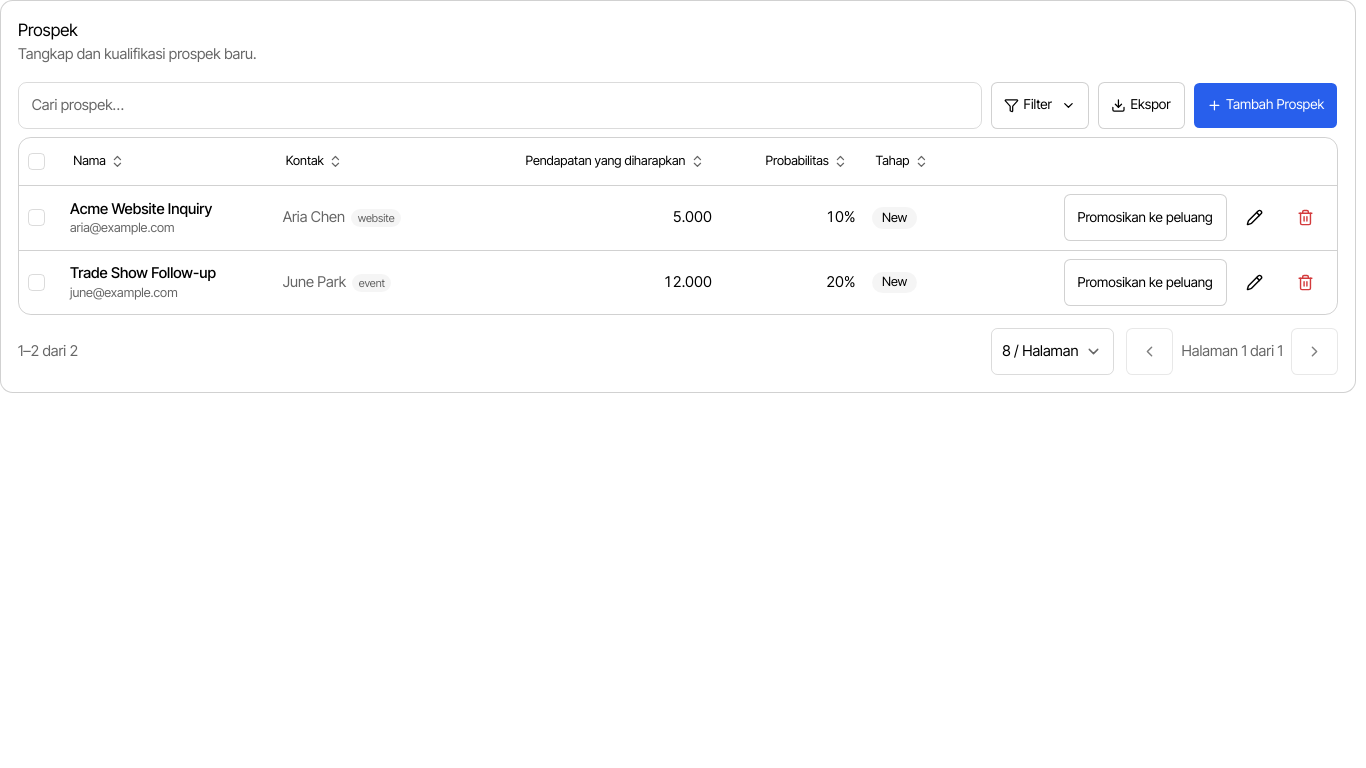
Test: LeadsSection › opens the lead dialog from the add button
Expected: the text "Acme Website Inquiry" is shown, [70, 200, 212, 218]
Click the button "Tambah Prospek".
click(1266, 105)  # box [1193, 82, 1338, 129]
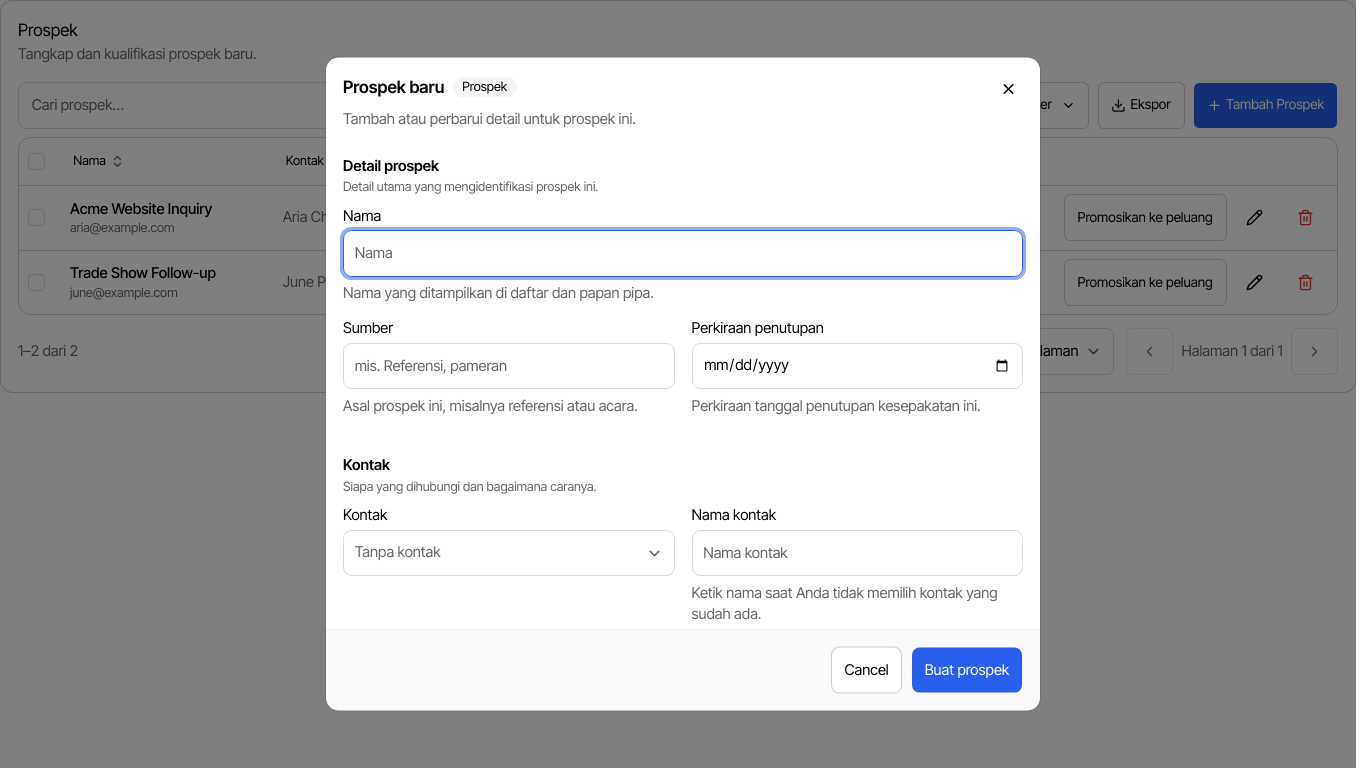
Result: the dialog is shown at [326, 58, 1040, 710]
Result: the heading "Prospek baru" is shown at [343, 75, 444, 100]
